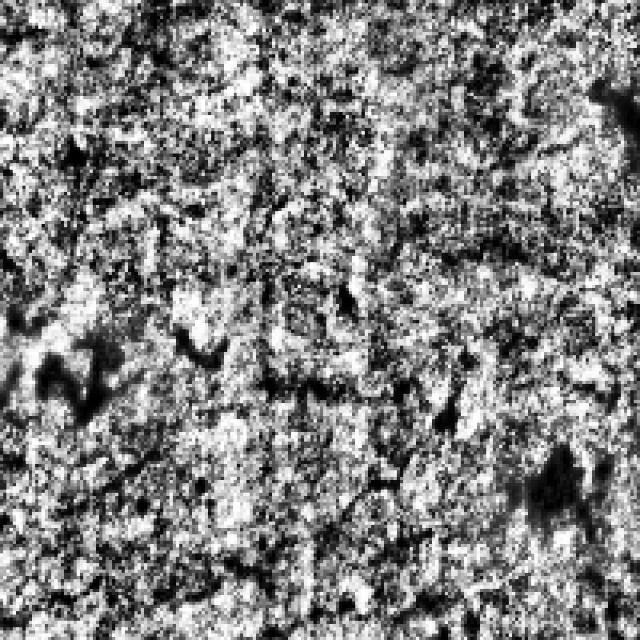Pitted_Surface: (3, 435, 429, 608), (150, 310, 464, 429)
Scratches: (496, 432, 608, 534)
